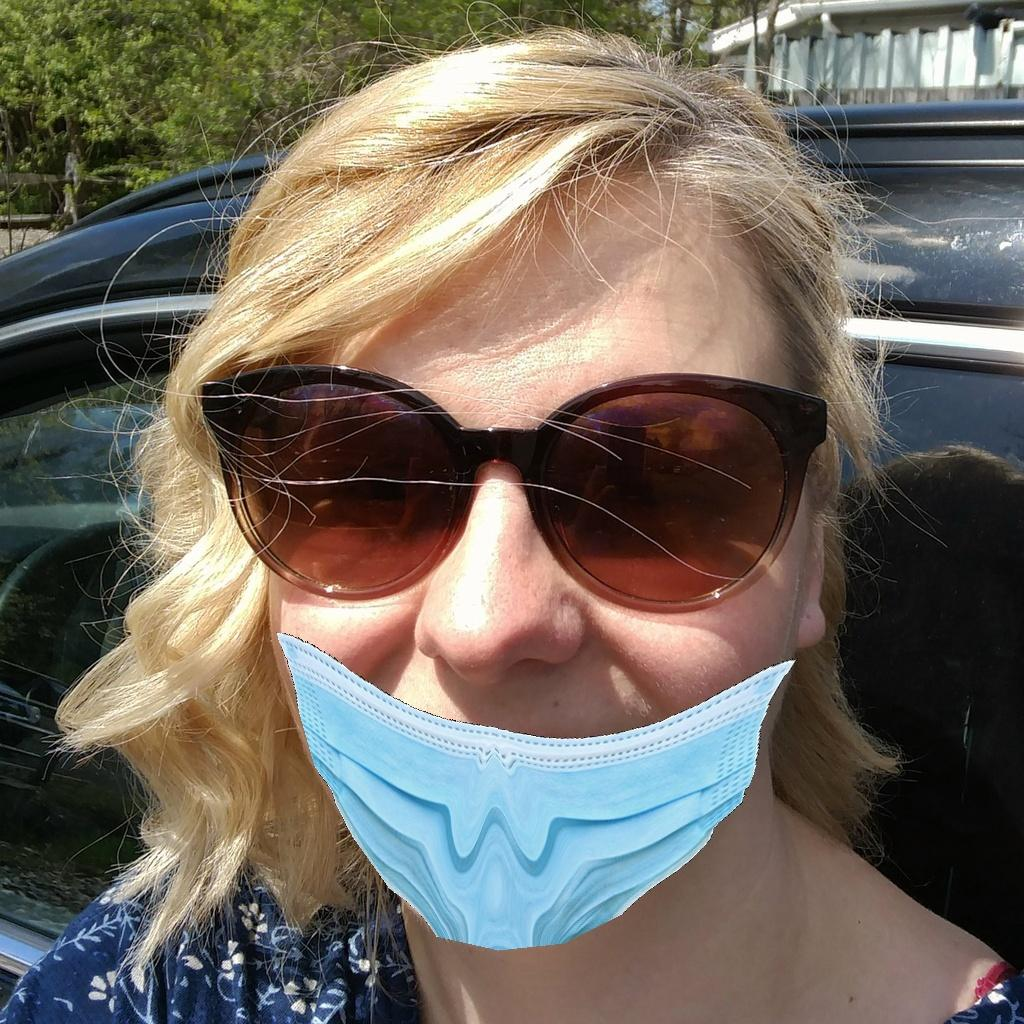Máscara Incorreta: (245, 253, 780, 938)
